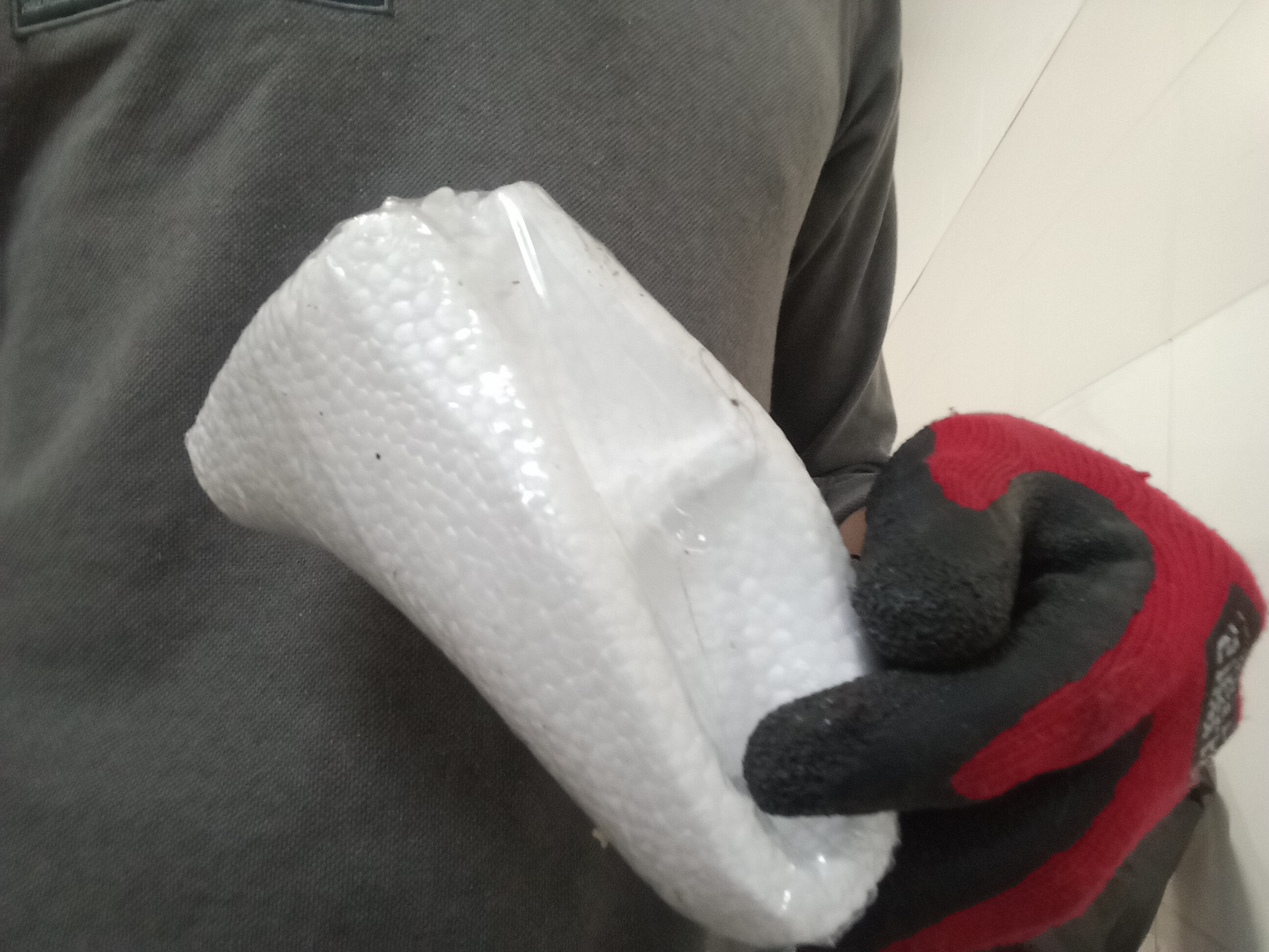Ordinario: (185, 179, 903, 952)
